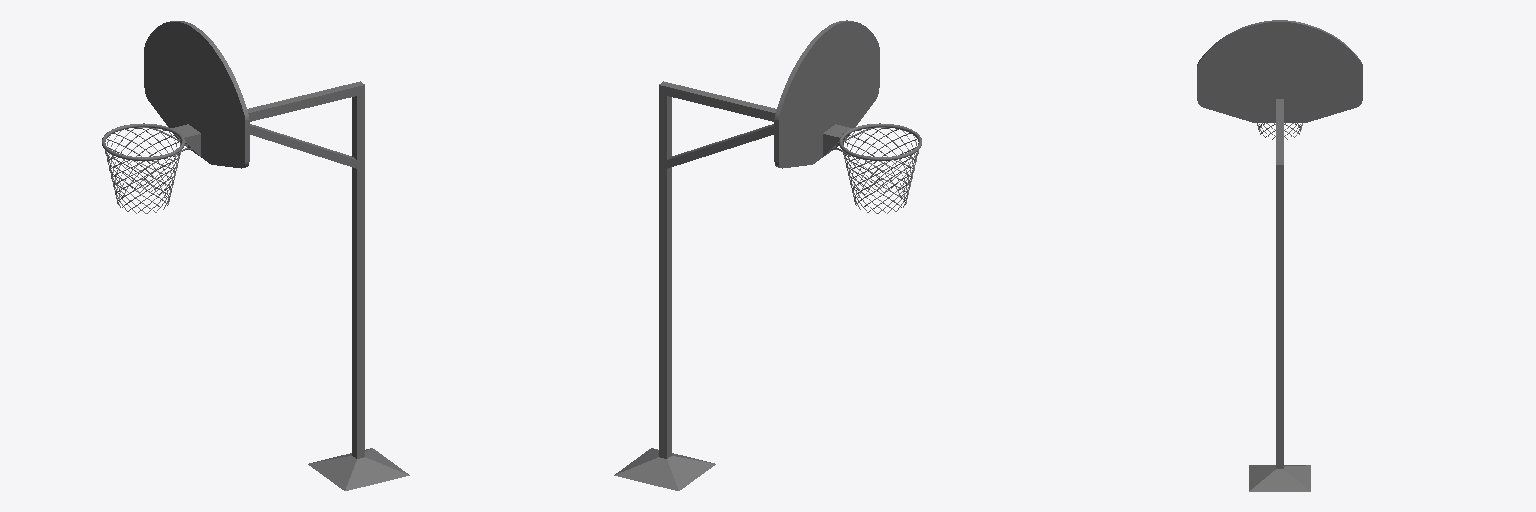
URDF robot description (object):
<?xml version="1.0"?>
<robot name="object">
  <link name="object">
    <visual>
      <origin xyz="0 0 0"/>
      <geometry>
        <mesh
          filename="../mesh/basketball_hoop.stl" />
      </geometry>
      <material name="mat">
        <color rgba="0.5 0.5 0.5 1"/>
      </material>
    </visual>

    <collision>
      <origin xyz="0 0 0"/>
      <geometry>
        <mesh
          filename="../mesh/basketball_hoop.stl" />
      </geometry>
    </collision>
  </link>
</robot>

--- Facts derived from the render (not from the file) ---
3 views of the same robot in one strip: view 1: azimuth 30°, elevation 25°; view 2: azimuth 150°, elevation 25°; view 3: azimuth 270°, elevation 25° (orthographic).
Robot: object — 1 links, 0 joints (none); root link object; default pose: every joint at zero.
Links seen in each view (by area): view 1: object; view 2: object; view 3: object.
Link boxes in pixels (x1,y1,x2,y2): object: (102,21,409,490); object: (614,20,921,490); object: (1197,20,1362,491).
Bounding box of the posed robot: 2.35 × 1.45 × 3.79 m (x, y, z).
Meshes: 1 distinct files referenced, 1 mesh visuals loaded (1 binary STL).